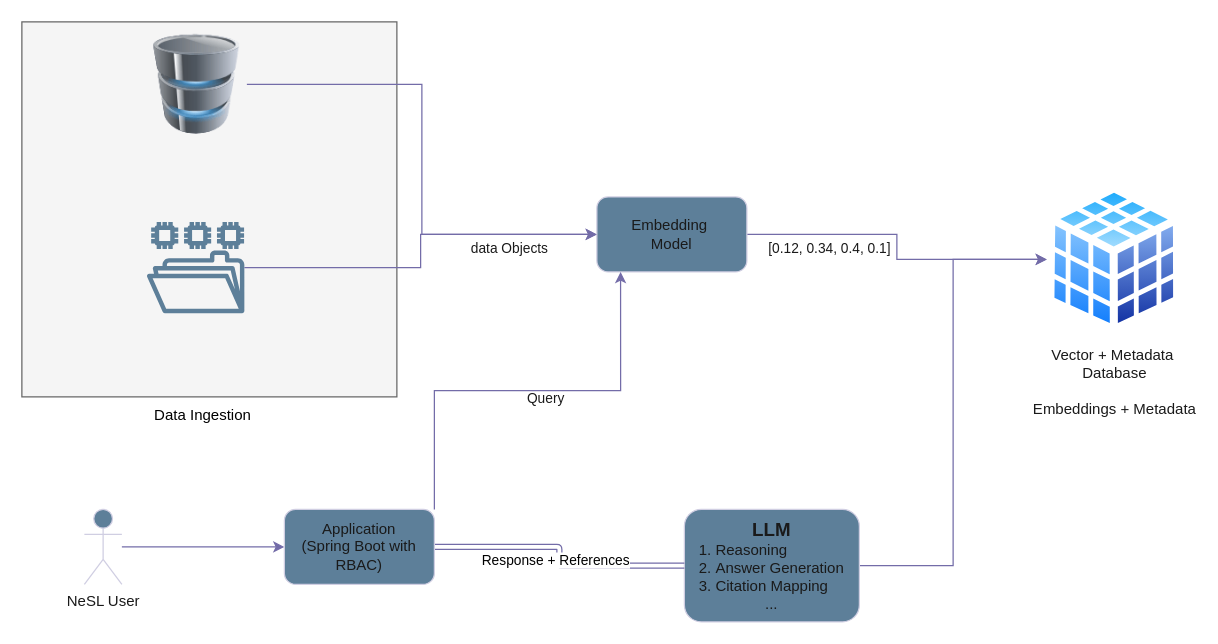
Some shapes in this 1218 by 644 pixel diagram are drawn without their labels. Each missing label, with the box of its shape:
Private Content (Unstructured): (146, 221, 244, 312)
Private Structured Datasource: (146, 34, 246, 134)
